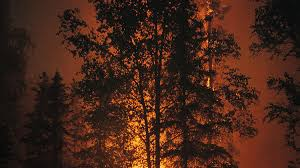fire: (112, 71, 187, 168)
smoke: (26, 3, 92, 78)
